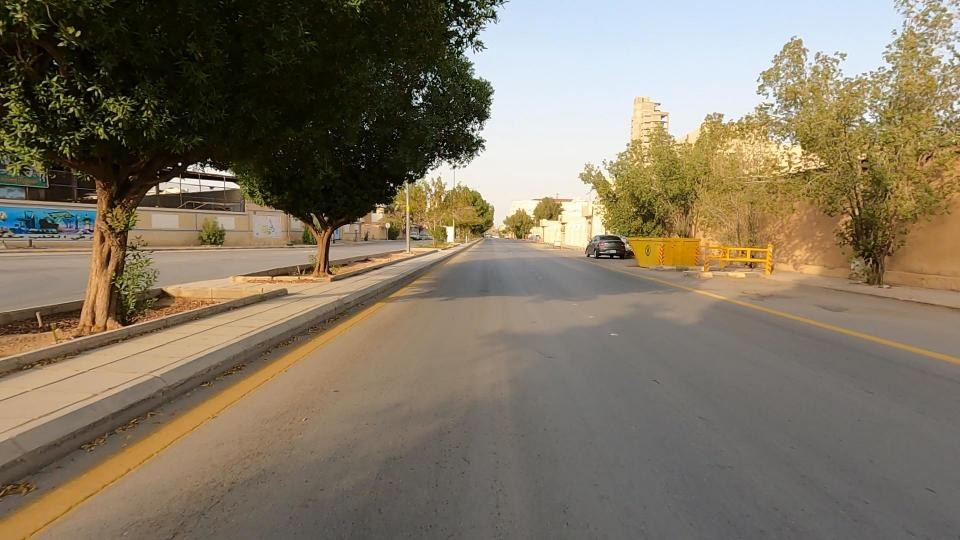GARBAGE: (586, 199, 742, 307)
